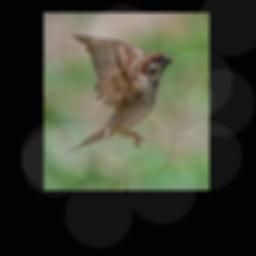Sparrow: (65, 34, 175, 154)
